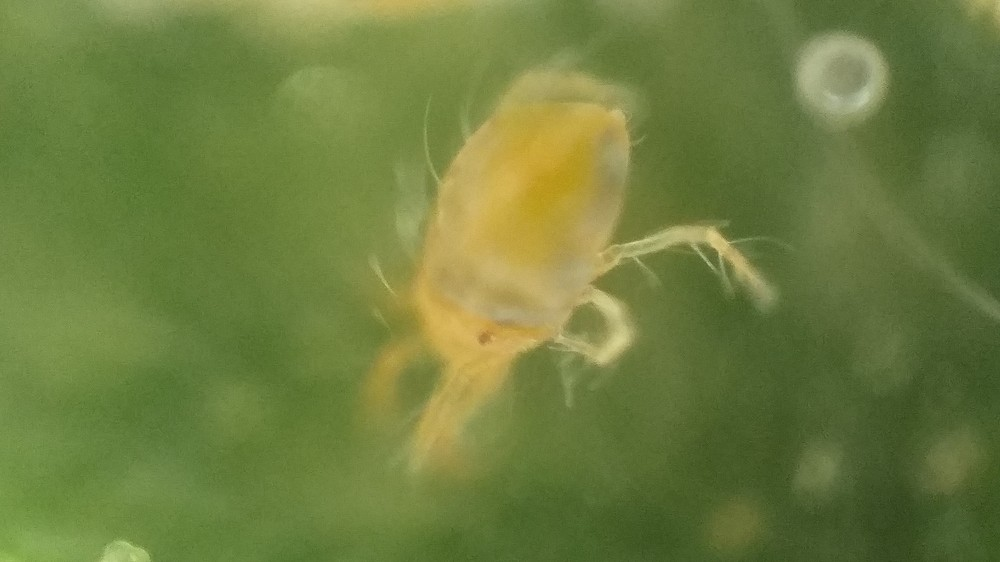Aracnido Rojo: (322, 62, 784, 482)
